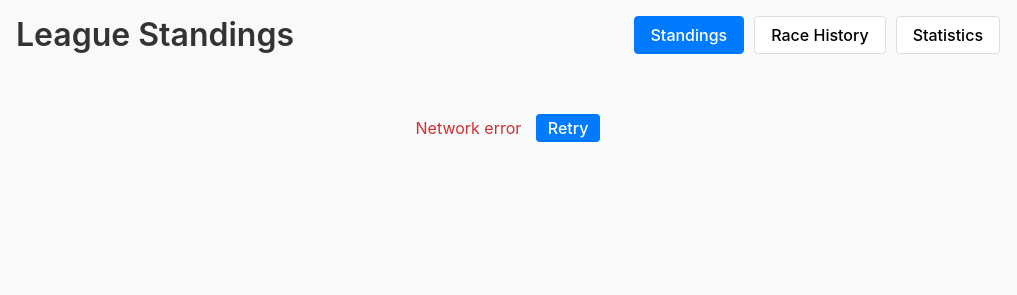
LeagueStandings › Error Handling › should retry data loading when retry button is clicked
The width and height of the screenshot is (1017, 295).
Expected: the element with class "error" is shown, [416, 114, 600, 142]
// Click retry
Click the button with class "retry-button" at {"x": 568, "y": 128}, box [536, 114, 600, 142]
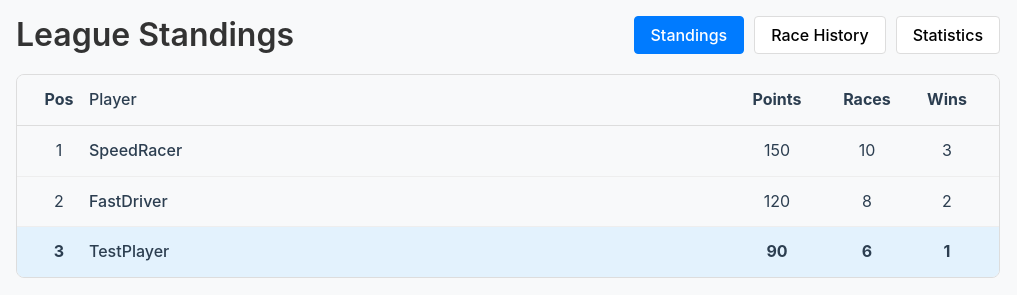
Now the element with class "standings-view" is shown
